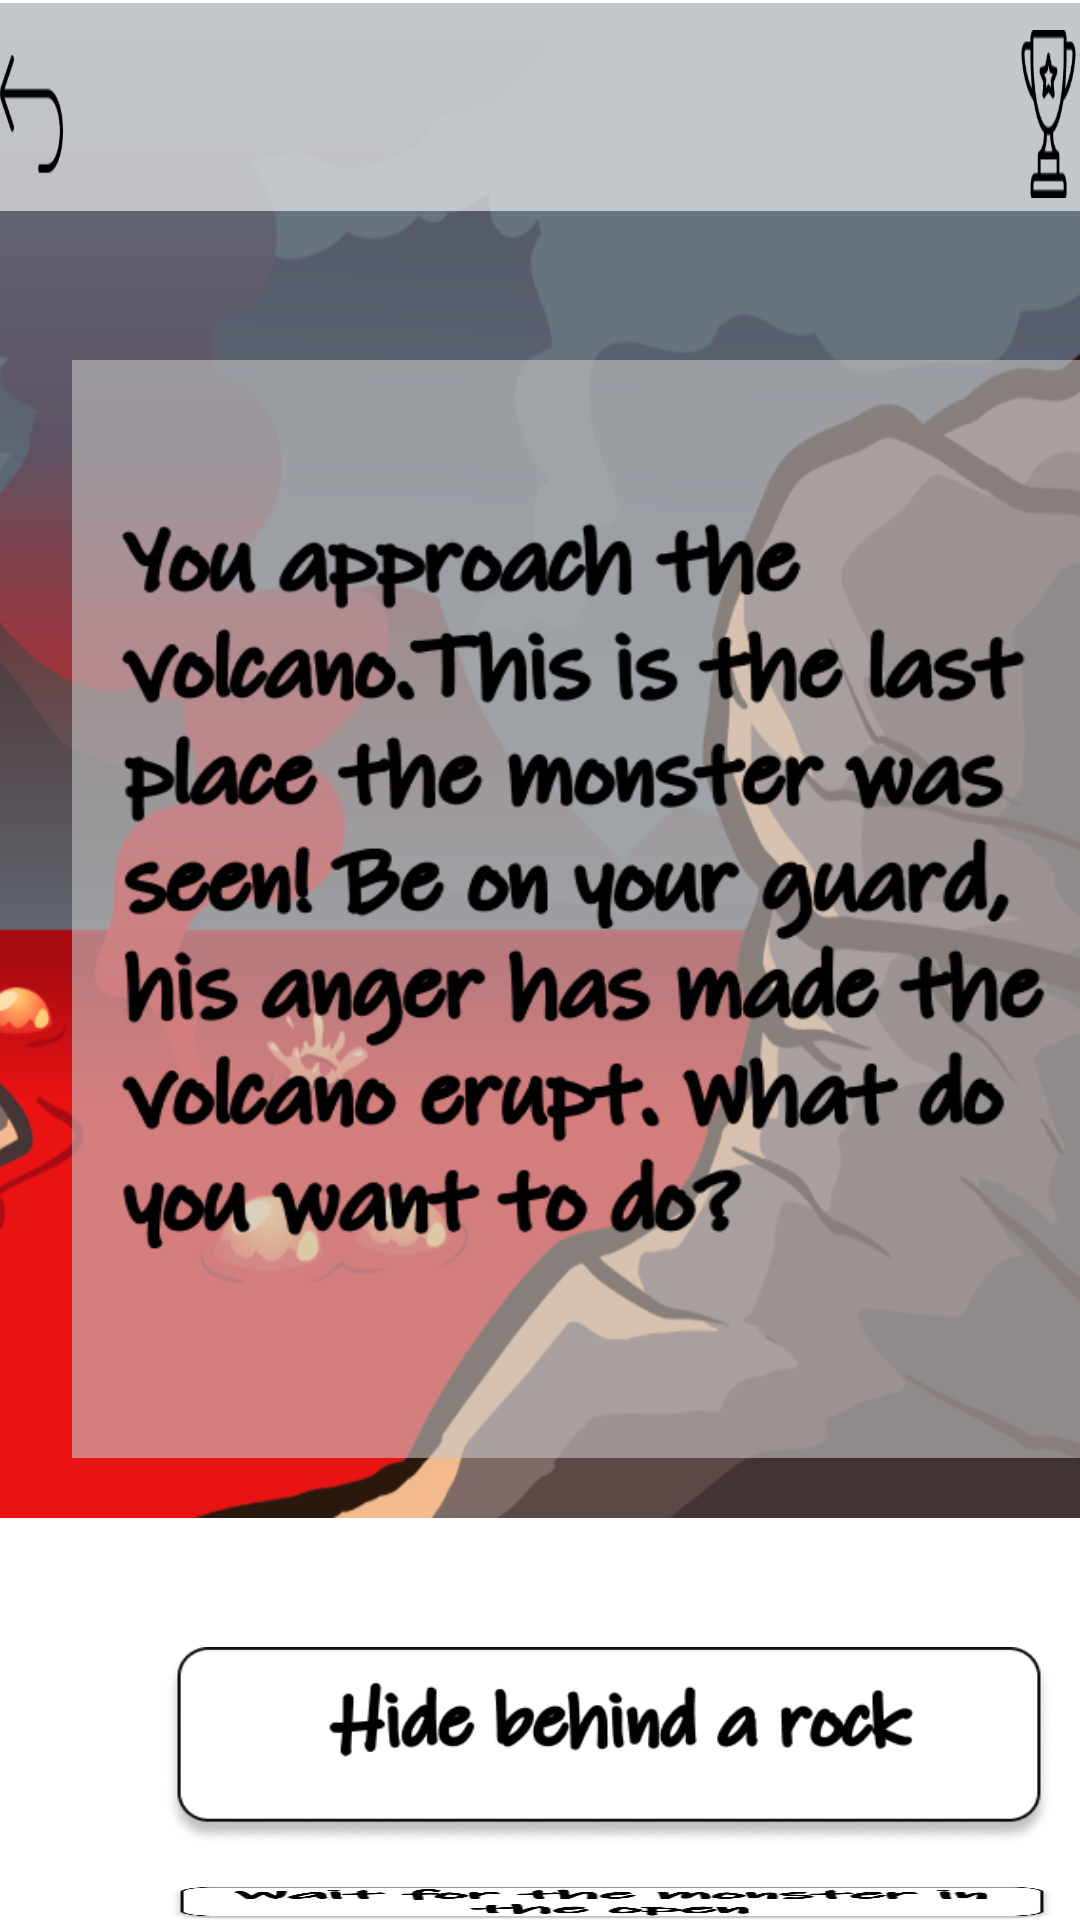

Screen size 1080px×1920px. Icon name, then its center in pixels as (x=x, y=y):
trophy: (x=1048, y=114)
